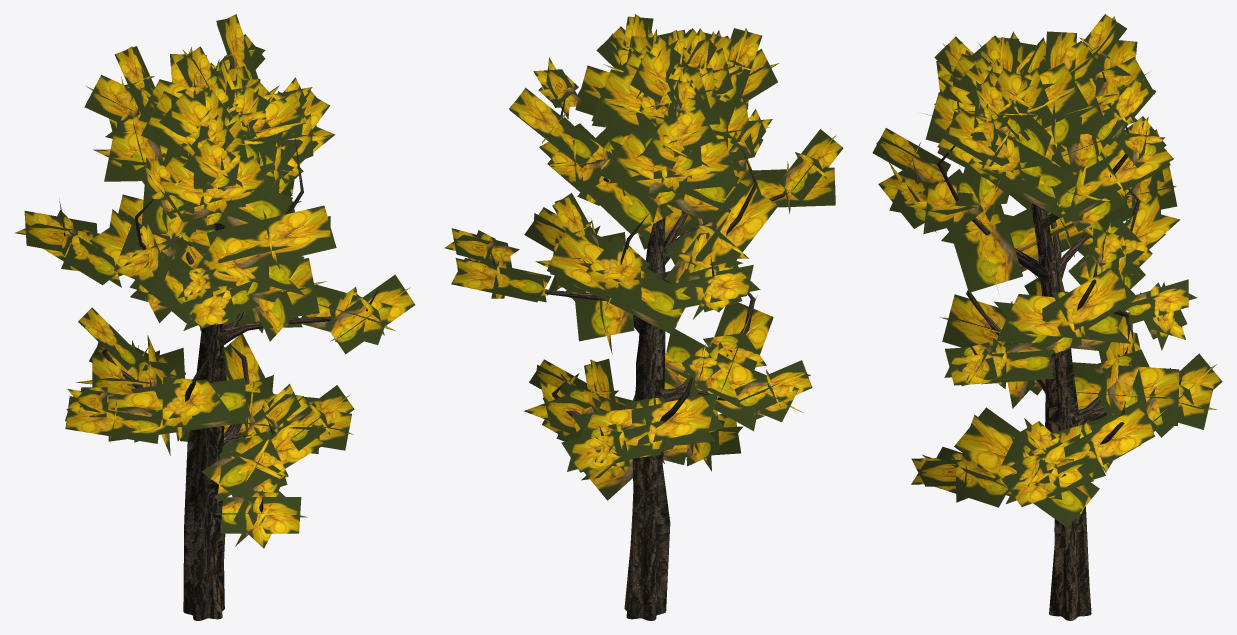
Rendered from arvore_folha_verde_variante_3.fbx.
3 renders of one model, left to right at view 1: azimuth 30°, elevation 25°; view 2: azimuth 150°, elevation 25°; view 3: azimuth 270°, elevation 25°, orthographic.
Parts seen in each view (by area): view 1: branch07_1, clay-banks-4u629vfd3vi-unsplash_0; view 2: branch07_1, clay-banks-4u629vfd3vi-unsplash_0; view 3: branch07_1, clay-banks-4u629vfd3vi-unsplash_0.
Part boxes in pixels (x1,y1,x2,y2): branch07_1: (15,14,415,548); clay-banks-4u629vfd3vi-unsplash_0: (59,53,379,620); branch07_1: (444,14,843,500); clay-banks-4u629vfd3vi-unsplash_0: (487,87,787,620); branch07_1: (872,14,1222,527); clay-banks-4u629vfd3vi-unsplash_0: (912,56,1182,620).
Size of the model in its own units: 449 by 782 by 432.
